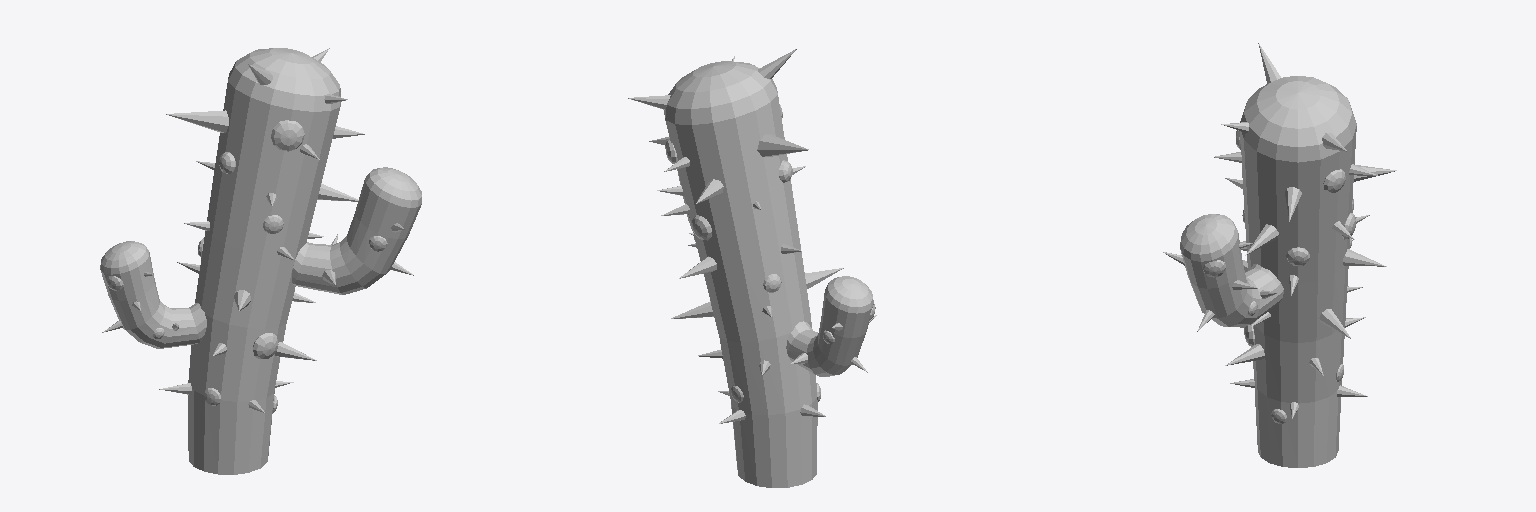
Rendered from cactus.obj.
3 views of the same model, side by side, from view 1: azimuth 30°, elevation 25°; view 2: azimuth 150°, elevation 25°; view 3: azimuth 270°, elevation 25° (orthographic).
Parts seen in each view (by area): view 1: Sphere001_meshId2_name; view 2: Sphere001_meshId2_name; view 3: Sphere001_meshId2_name.
Boxes of the visible parts, x1=… form: Sphere001_meshId2_name: x1=100, y1=48, x2=421, y2=474; Sphere001_meshId2_name: x1=628, y1=49, x2=876, y2=487; Sphere001_meshId2_name: x1=1163, y1=43, x2=1396, y2=467.
Size of the model in its own units: 1.1 by 1.68 by 0.8828.